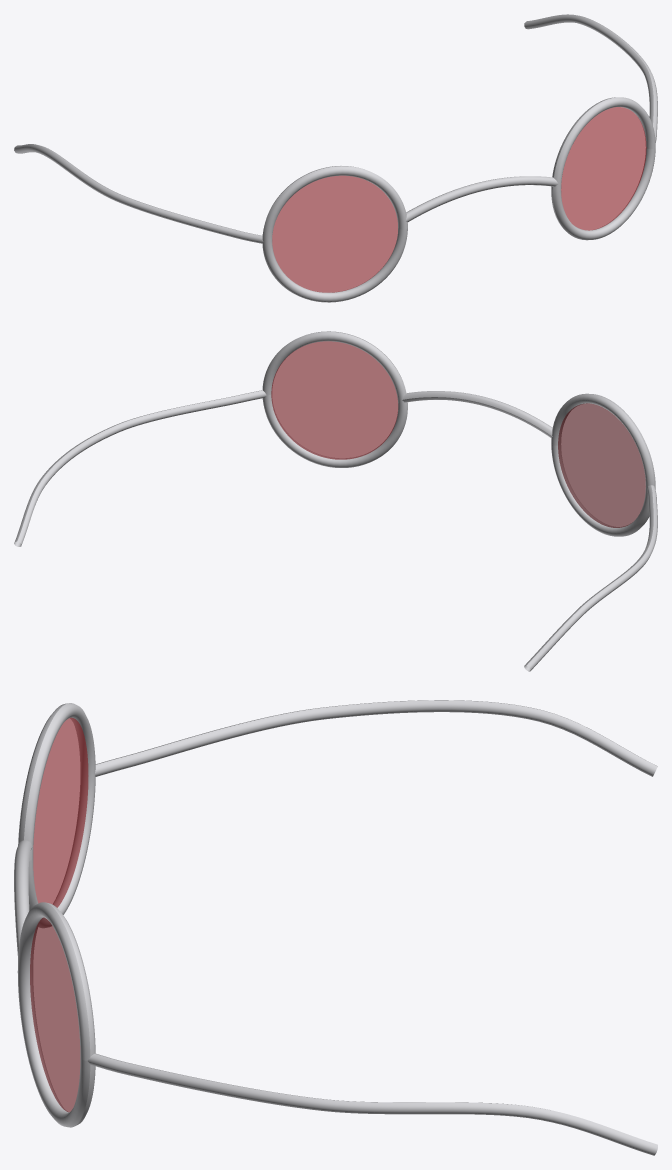
The model's file is modelo-Ct1VM3_l.glb.
3 views of the same model, one above another, from view 1: azimuth 30°, elevation 25°; view 2: azimuth 150°, elevation 25°; view 3: azimuth 270°, elevation 25° (orthographic). The views are drawn at different scales.
Visible parts, largest first — view 1: PKG_c1, PKG_c4, PKG_c0, PKG_c3, PKG_c2, PKG_c5, PKG_c6; view 2: PKG_c4, PKG_c1, PKG_c3, PKG_c0, PKG_c5, PKG_c2, PKG_c6; view 3: PKG_c1, PKG_c2, PKG_c5, PKG_c3, PKG_c4, PKG_c0, PKG_c6.
Boxes of the visible parts, left/top/right/bottom form: PKG_c1: left=272, top=175, right=397, bottom=292; PKG_c4: left=561, top=107, right=646, bottom=230; PKG_c0: left=262, top=166, right=407, bottom=302; PKG_c3: left=551, top=97, right=655, bottom=240; PKG_c2: left=14, top=144, right=263, bottom=243; PKG_c5: left=524, top=14, right=657, bottom=142; PKG_c6: left=405, top=176, right=558, bottom=222; PKG_c4: left=271, top=341, right=398, bottom=459; PKG_c1: left=558, top=403, right=645, bottom=527; PKG_c3: left=262, top=331, right=407, bottom=467; PKG_c0: left=551, top=393, right=655, bottom=536; PKG_c5: left=14, top=390, right=266, bottom=546; PKG_c2: left=524, top=485, right=657, bottom=671; PKG_c6: left=402, top=391, right=552, bottom=437; PKG_c1: left=33, top=717, right=88, bottom=907; PKG_c2: left=95, top=700, right=657, bottom=776; PKG_c5: left=87, top=1053, right=657, bottom=1155; PKG_c3: left=17, top=902, right=95, bottom=1127; PKG_c4: left=30, top=917, right=80, bottom=1112; PKG_c0: left=18, top=703, right=95, bottom=927; PKG_c6: left=14, top=840, right=32, bottom=958.
Size of the model in its own units: 0.0728 by 0.0172 by 0.0486.
